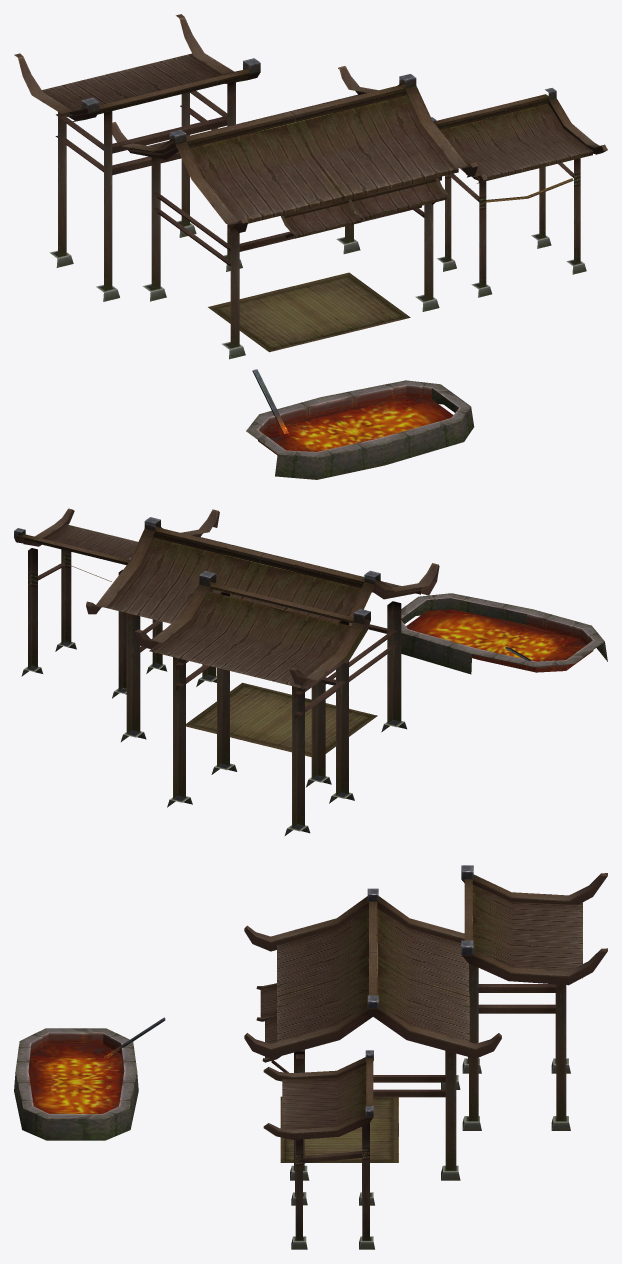
Rendered from zc_suzhou_tiejiangpu.FBX.
3 renders of one model, top to bottom at view 1: azimuth 30°, elevation 25°; view 2: azimuth 150°, elevation 25°; view 3: azimuth 270°, elevation 25°, orthographic. The views are drawn at different scales.
Visible parts, largest first — view 1: zc_suzhou_tiejiangpu; view 2: zc_suzhou_tiejiangpu; view 3: zc_suzhou_tiejiangpu.
Part boxes in pixels (left/top/right/bottom): zc_suzhou_tiejiangpu: left=14, top=14, right=607, bottom=479; zc_suzhou_tiejiangpu: left=14, top=508, right=607, bottom=835; zc_suzhou_tiejiangpu: left=14, top=865, right=607, bottom=1249.
Bounding box in the file's own units: 741 × 323 × 887.
1 material, 1 textured.
